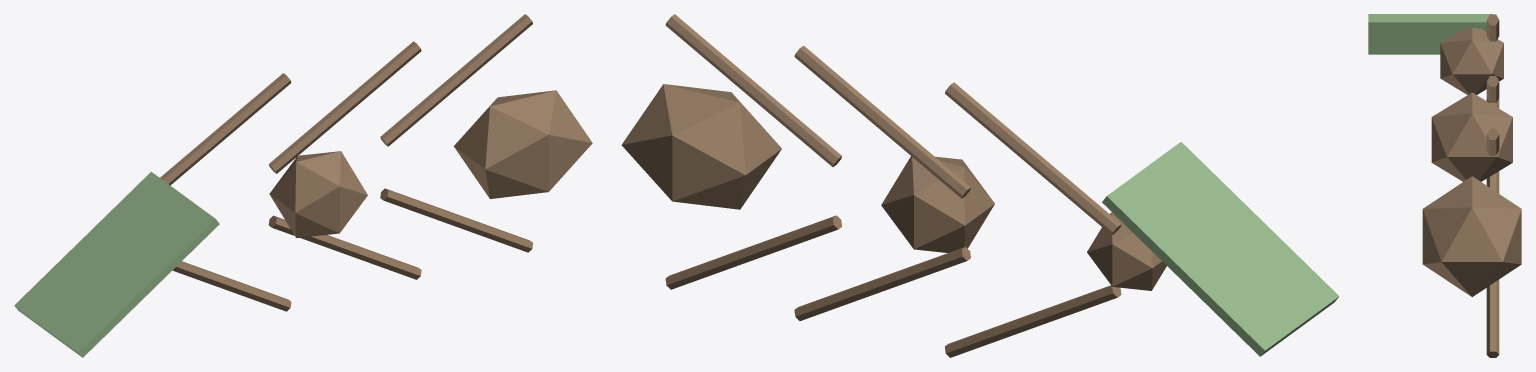
File: leafcutter_ant.glb
The picture shows the model from 3 angles, left to right: view 1: azimuth 30°, elevation 25°; view 2: azimuth 150°, elevation 25°; view 3: azimuth 270°, elevation 25°; orthographic projection. The views are drawn at different scales.
Parts seen in each view (by area): view 1: world; view 2: world; view 3: world.
Boxes of the visible parts, box(x1,y1,x2,y2) form: world: box(14, 14, 592, 357); world: box(621, 14, 1339, 357); world: box(1368, 14, 1521, 357).
Bounding box in the file's own units: 1.48 × 0.6075 × 0.3691.
